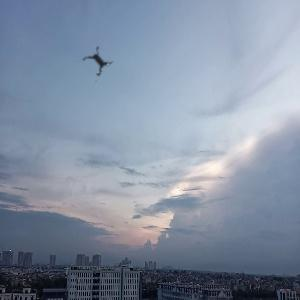drone: (65, 31, 131, 97)
